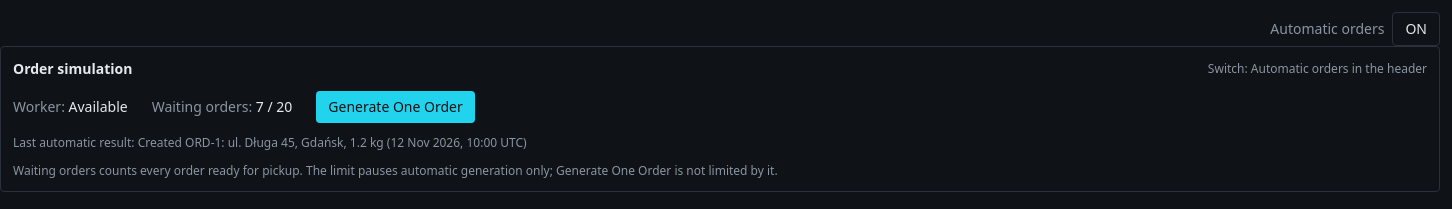
OrderSimulationPanel › turns off again
Click the switch named "Automatic orders".
click(1416, 29)  # box [1392, 12, 1440, 46]
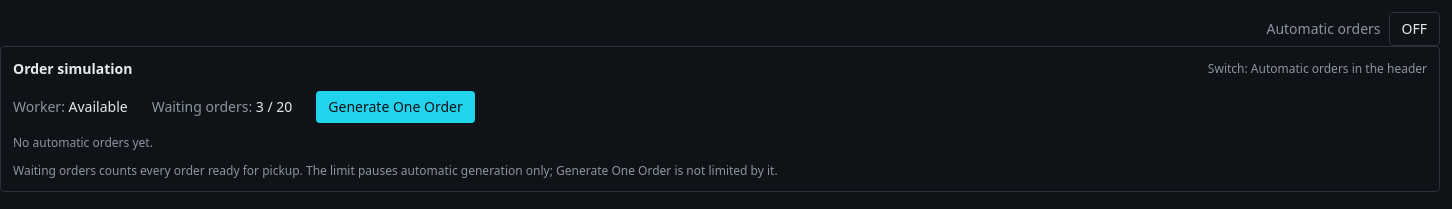
Expected: the switch is not checked, [1388, 12, 1440, 46]
